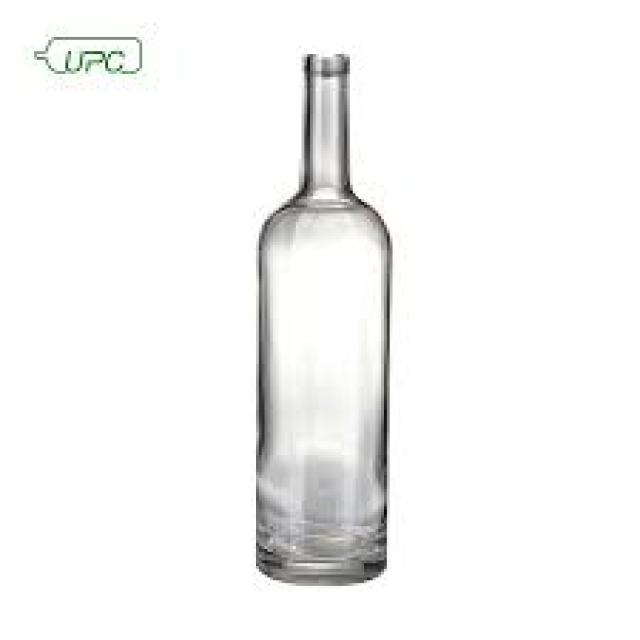glass: (256, 51, 387, 580)
